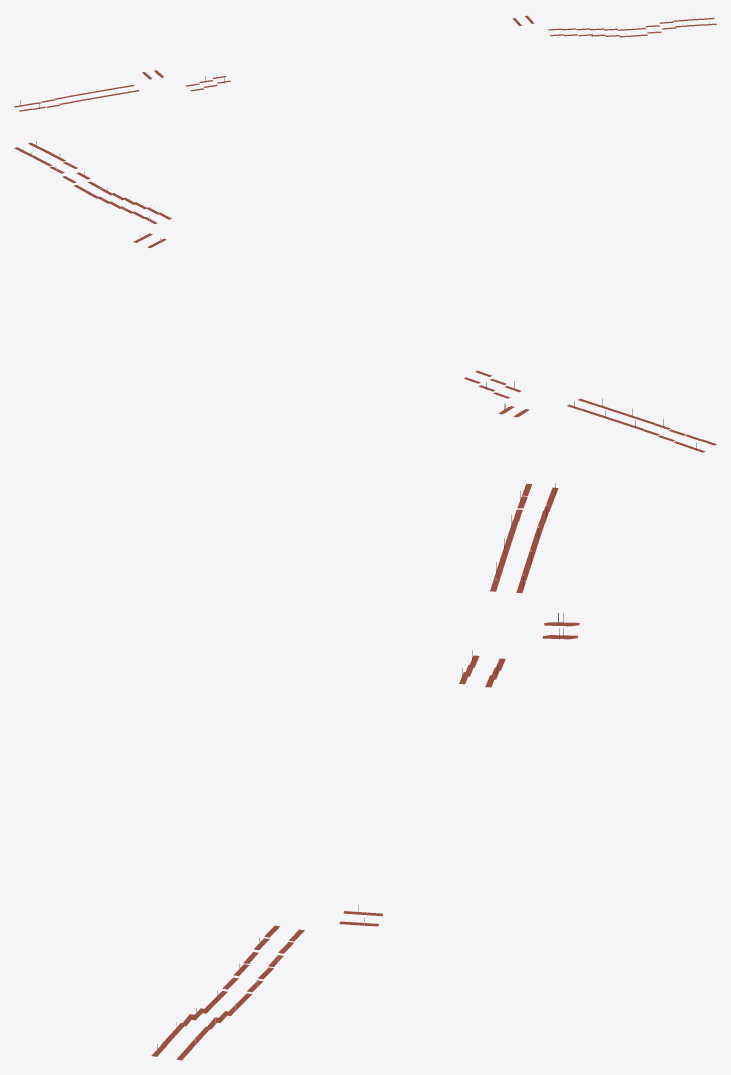
File: noord_brick.glb
3 views of the same model, one above another, from view 1: azimuth 30°, elevation 25°; view 2: azimuth 150°, elevation 25°; view 3: azimuth 270°, elevation 25° (orthographic). The views are drawn at different scales.
Visible parts, largest first — view 1: noord_brick_lod0; view 2: noord_brick_lod0; view 3: noord_brick_lod0.
Part boxes in pixels (left/top/right/bottom): noord_brick_lod0: left=14, top=14, right=716, bottom=111; noord_brick_lod0: left=14, top=140, right=716, bottom=452; noord_brick_lod0: left=151, top=481, right=579, bottom=1060.
Size of what is drawn, in the model's own units: 592 by 20.61 by 181.
